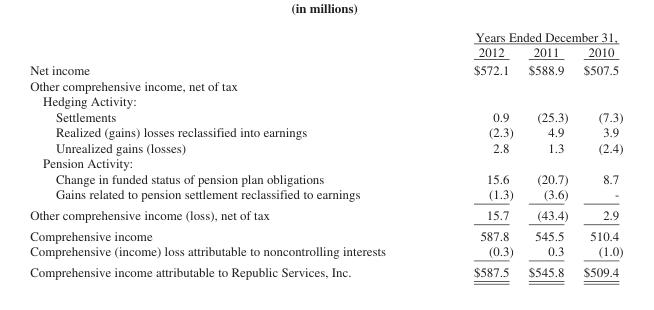table: (29, 29, 622, 278)
table column: (29, 29, 429, 278), (429, 29, 520, 278), (520, 29, 575, 278), (575, 29, 622, 278)
table column header: (29, 29, 622, 60)
table projected row header: (29, 77, 622, 93), (29, 93, 622, 108), (29, 155, 622, 170)
table row: (29, 204, 622, 224), (29, 242, 622, 261), (29, 186, 622, 204), (29, 224, 622, 242), (29, 43, 622, 60), (29, 60, 622, 77), (29, 261, 622, 278), (29, 77, 622, 93), (29, 108, 622, 124), (29, 139, 622, 155), (29, 170, 622, 186), (29, 93, 622, 108), (29, 124, 622, 139), (29, 155, 622, 170), (29, 29, 622, 43)
table spanning cell: (429, 29, 622, 43)
